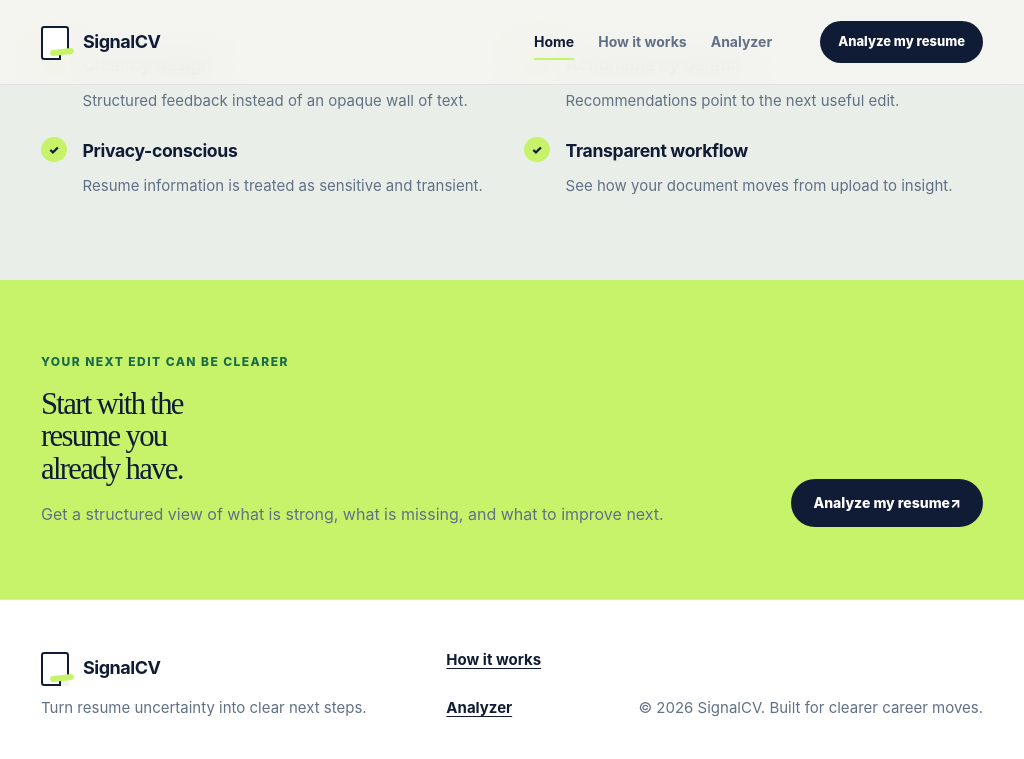
Scenario: application shell and Home page › renders the four core product capability sections and final CTA
The image size is (1024, 759).
(page scrolled)
Check: the heading "Start with the resume you already have." is shown, box [41,387,183,486]
Click the link "Analyze my resume ↗" at [887, 503], box [791,479,983,527]
(page scrolled)
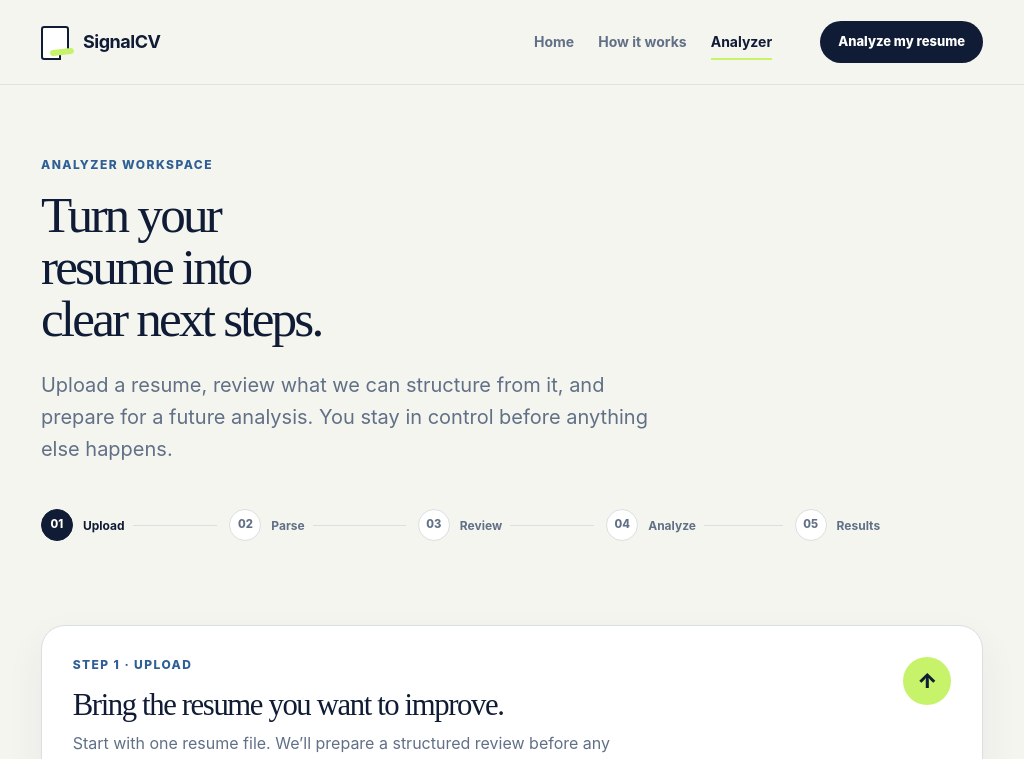
Check: the heading "Turn your resume into clear next steps." is shown, box [41,186,322,347]
